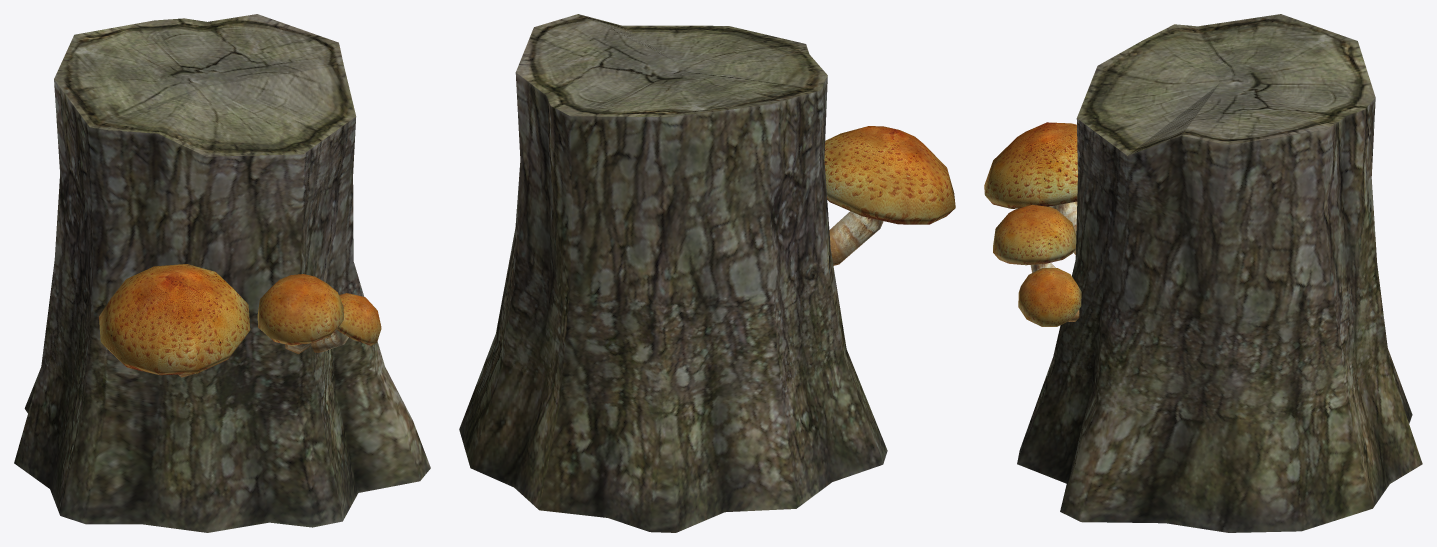
File: Pholiota adiposa.FBX
The picture shows the model from 3 angles, left to right: view 1: azimuth 30°, elevation 25°; view 2: azimuth 150°, elevation 25°; view 3: azimuth 270°, elevation 25°; orthographic projection. The views are drawn at different scales.
Parts seen in each view (by area): view 1: tree, Mushroom_001, Mushroom_002, Mushroom_003; view 2: tree, Mushroom_001; view 3: tree, Mushroom_001, Mushroom_002, Mushroom_003.
Part boxes in pixels (left/top/right/bottom): tree: left=14, top=14, right=430, bottom=532; Mushroom_001: left=99, top=264, right=250, bottom=377; Mushroom_002: left=257, top=274, right=343, bottom=354; Mushroom_003: left=311, top=293, right=381, bottom=352; tree: left=459, top=14, right=887, bottom=532; Mushroom_001: left=824, top=126, right=955, bottom=265; tree: left=1017, top=14, right=1422, bottom=532; Mushroom_001: left=984, top=122, right=1077, bottom=255; Mushroom_002: left=993, top=205, right=1076, bottom=272; Mushroom_003: left=1018, top=268, right=1081, bottom=326.
Size of the model in its own units: 81.49 by 83.9 by 88.38.
